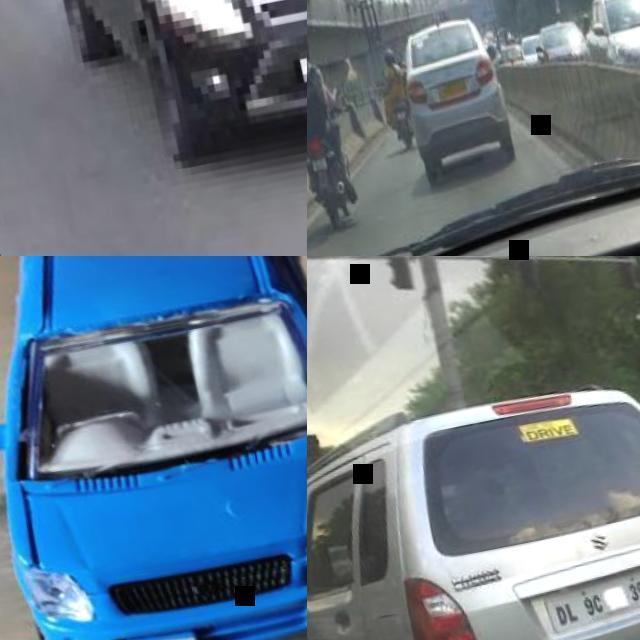car: (117, 0, 307, 163)
